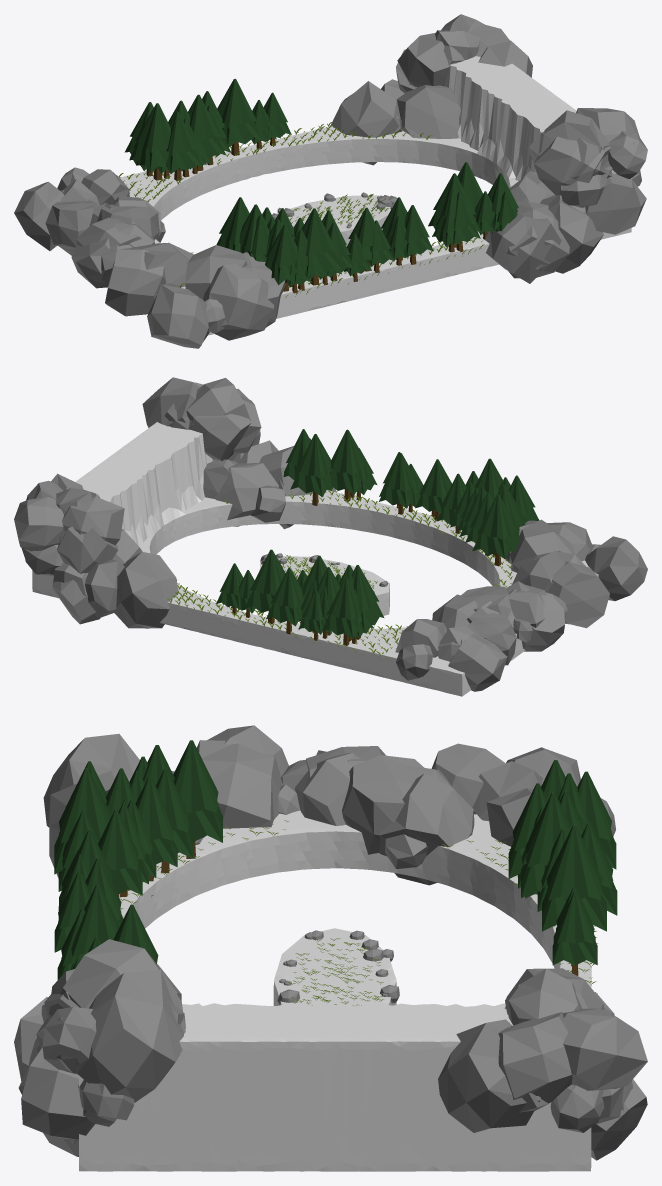
Rendered from env.glb.
The picture shows the model from 3 angles, top to bottom: view 1: azimuth 30°, elevation 25°; view 2: azimuth 150°, elevation 25°; view 3: azimuth 270°, elevation 25°; orthographic projection. The views are drawn at different scales.
Visible parts, largest first — view 1: out_environment; view 2: out_environment; view 3: out_environment.
Part boxes in pixels (x1,y1,x2,y2): out_environment: [14, 14, 647, 348]; out_environment: [14, 377, 647, 696]; out_environment: [14, 725, 647, 1171].
Bounding box in the file's own units: 45.87 × 12.12 × 30.93.
